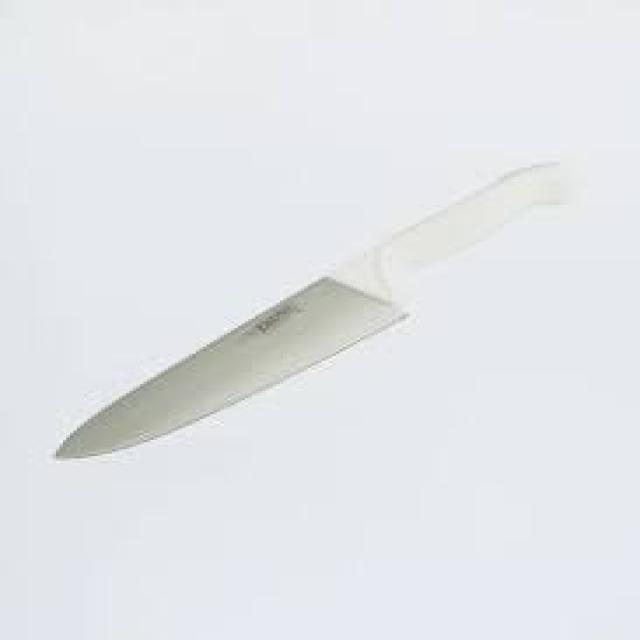Knife: (52, 156, 566, 458)
